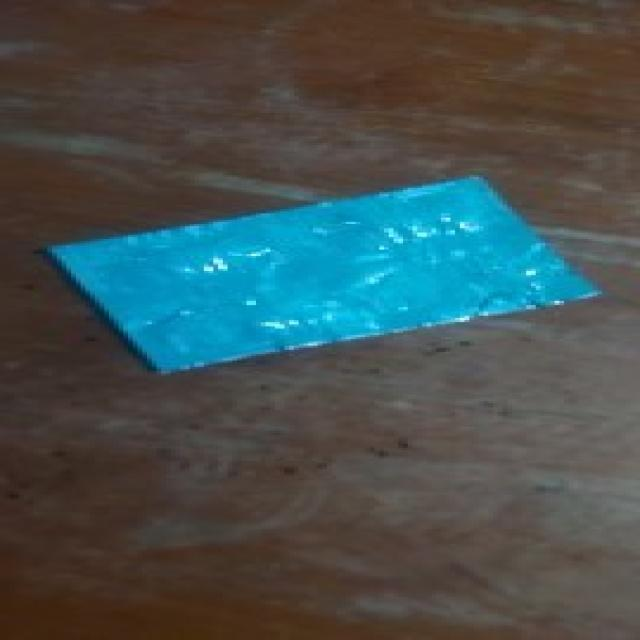Cacat: (38, 173, 609, 375)
